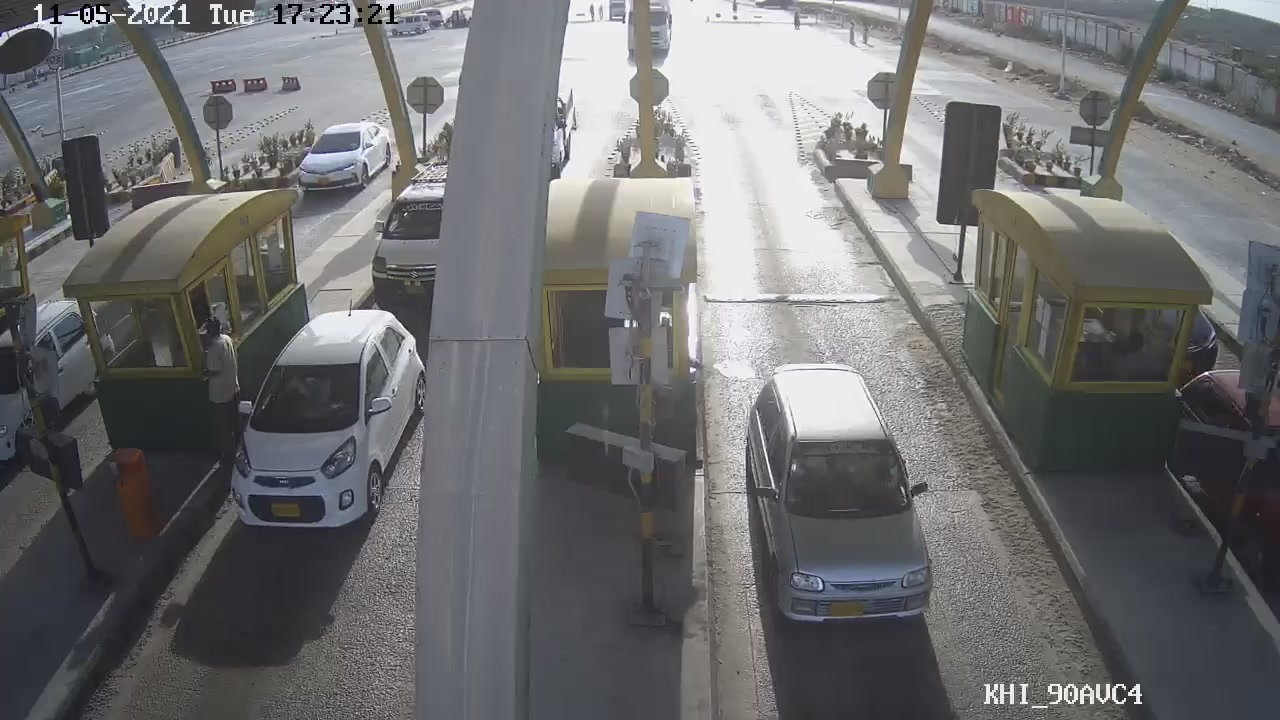F1: (741, 359, 974, 636)
